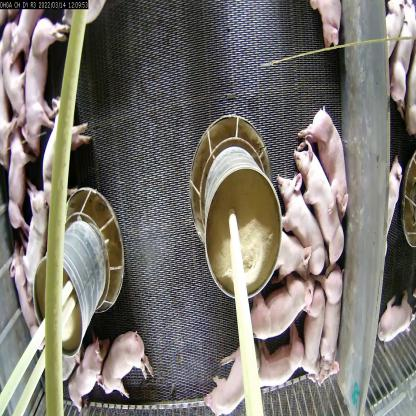Pig: (292, 148, 347, 267), (15, 22, 66, 148), (32, 99, 88, 212), (247, 271, 318, 350), (309, 111, 357, 221), (95, 317, 154, 399), (274, 171, 319, 267), (314, 263, 348, 389), (14, 188, 53, 293), (62, 326, 107, 416), (250, 331, 310, 394), (198, 348, 252, 415), (0, 13, 29, 136), (302, 275, 325, 381)
